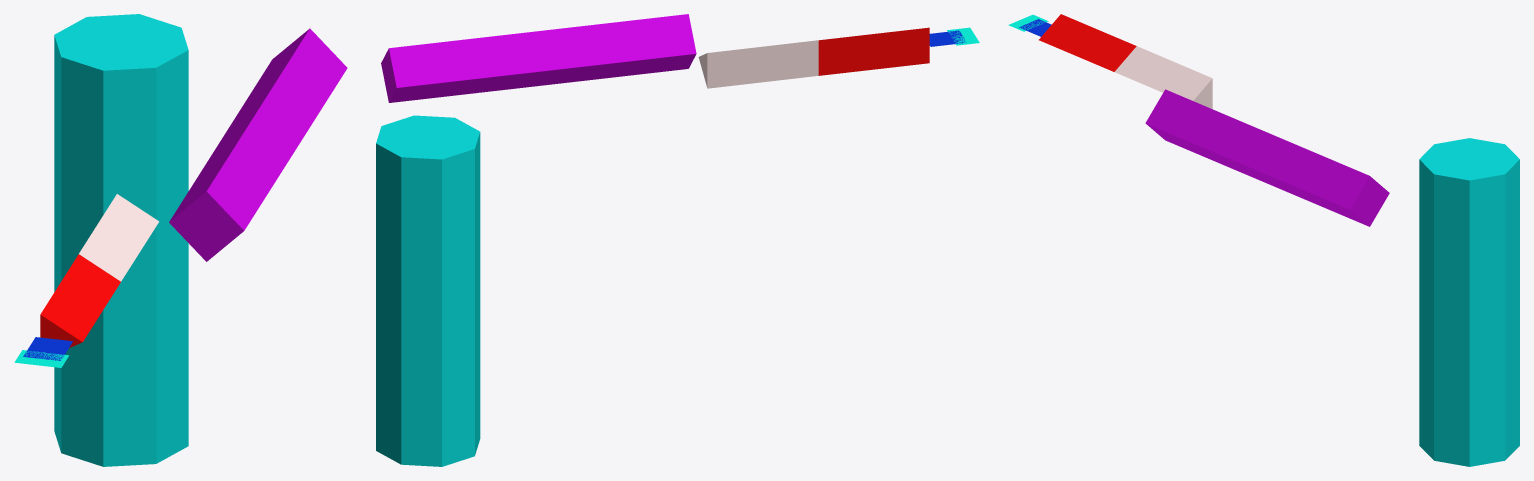
Rendered from mara_rounded.dae.
The picture shows the model from 3 angles, left to right: view 1: azimuth 30°, elevation 25°; view 2: azimuth 150°, elevation 25°; view 3: azimuth 270°, elevation 25°; orthographic projection. The views are drawn at different scales.
Parts seen in each view (by area): view 1: link1, link2, link4, link3, link5, link6; view 2: link1, link2, link3, link4; view 3: link1, link2, link3, link4.
Part boxes in pixels (x1,y1,x2,y2): link1: (54, 14, 188, 466); link2: (169, 28, 347, 261); link4: (40, 254, 120, 347); link3: (79, 194, 159, 281); link5: (23, 337, 72, 360); link6: (14, 350, 69, 367); link1: (376, 115, 480, 466); link2: (381, 14, 696, 102); link3: (698, 40, 818, 88); link4: (818, 27, 929, 75); link1: (1419, 138, 1519, 466); link2: (1145, 89, 1389, 226); link3: (1114, 46, 1212, 108); link4: (1039, 14, 1136, 71).
Size of the model in its own units: 0.6539 by 0.7255 by 0.4908.
